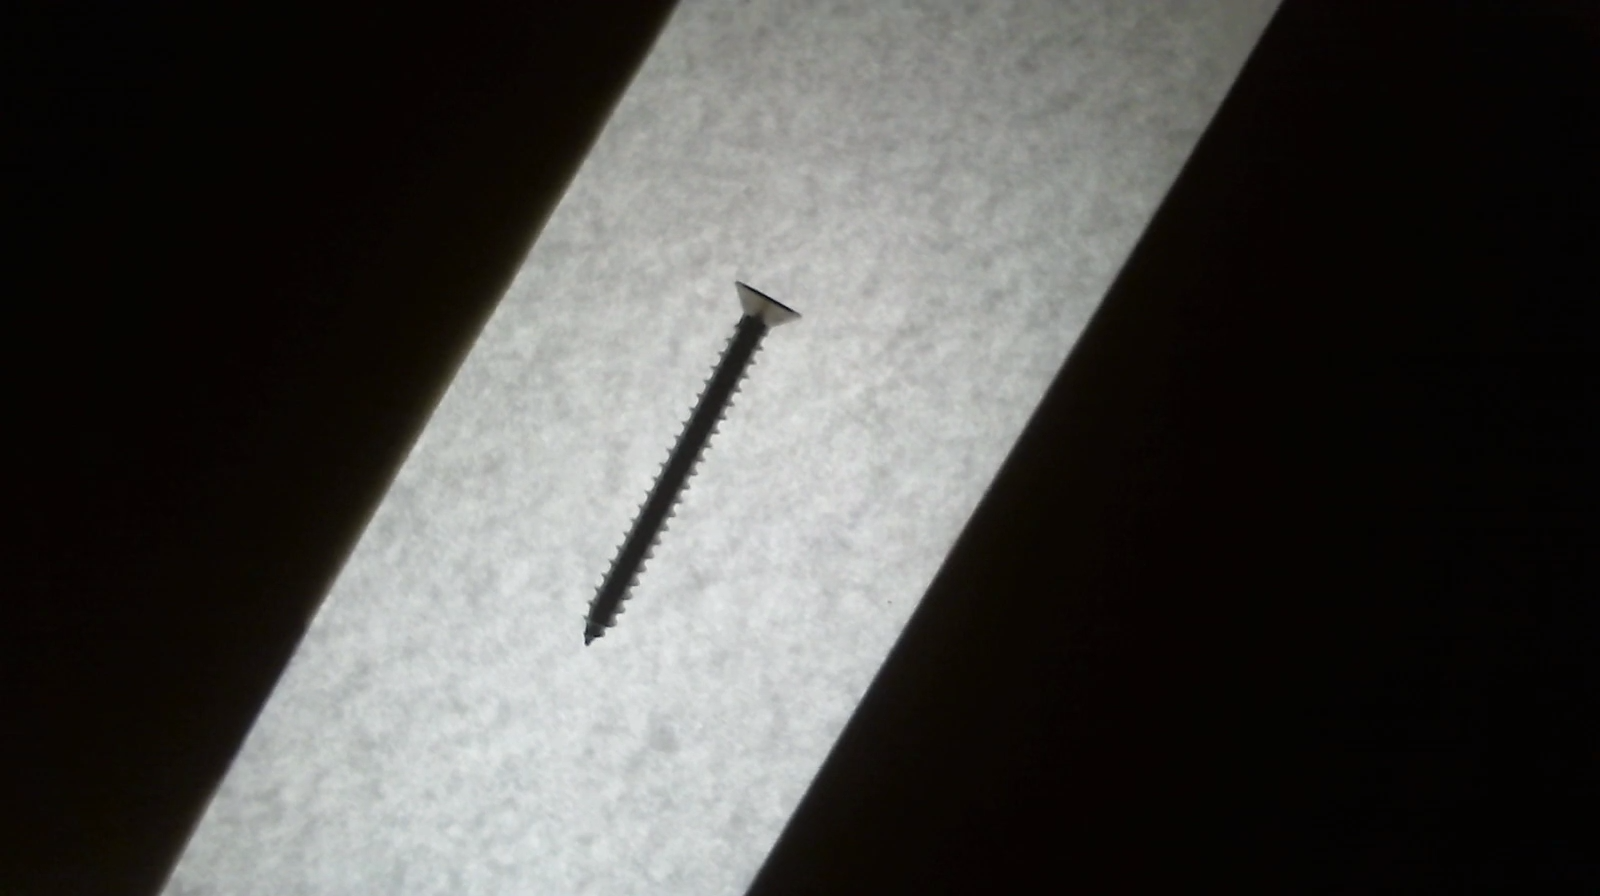S002: (566, 278, 810, 659)
